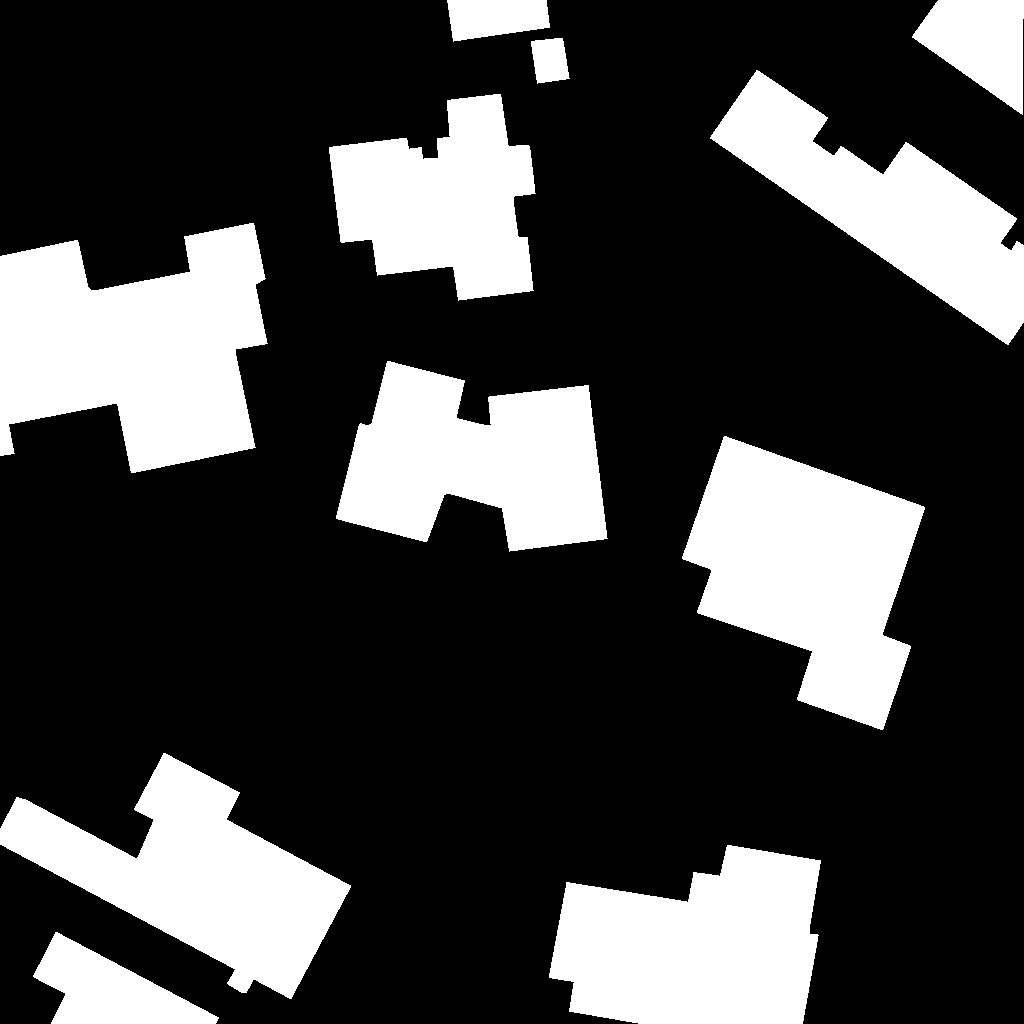building: (0, 753, 352, 1000), (710, 70, 1024, 346), (682, 436, 926, 731), (0, 223, 268, 474), (336, 361, 608, 552), (549, 845, 822, 1024), (329, 94, 536, 301), (33, 932, 220, 1024), (912, 0, 1024, 116), (447, 0, 551, 42), (531, 38, 570, 84)
